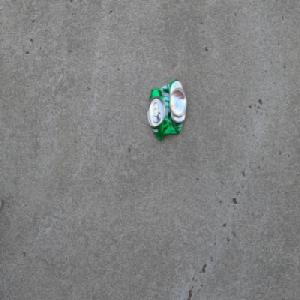SodaCan: (146, 77, 186, 141)
